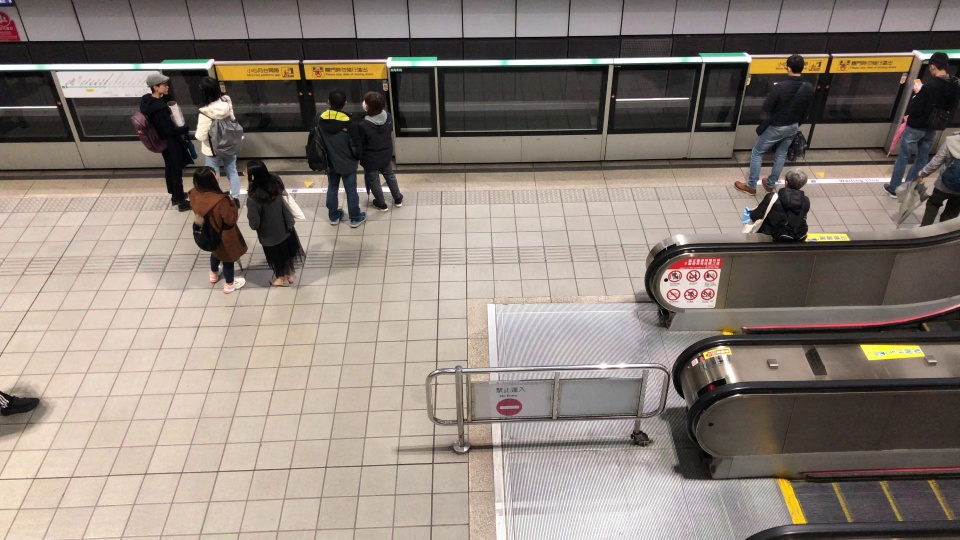person_head: (190, 165, 224, 195), (197, 76, 223, 107), (244, 160, 269, 192), (360, 91, 386, 115), (144, 73, 169, 97), (323, 88, 348, 112), (783, 168, 808, 192), (928, 51, 950, 78), (785, 54, 805, 77)
person_vbox: (881, 51, 960, 199), (733, 54, 813, 195), (129, 73, 199, 212), (301, 89, 367, 229), (241, 161, 307, 287), (185, 165, 248, 295), (349, 91, 404, 215), (193, 76, 244, 207), (738, 168, 812, 243), (913, 127, 960, 228)
